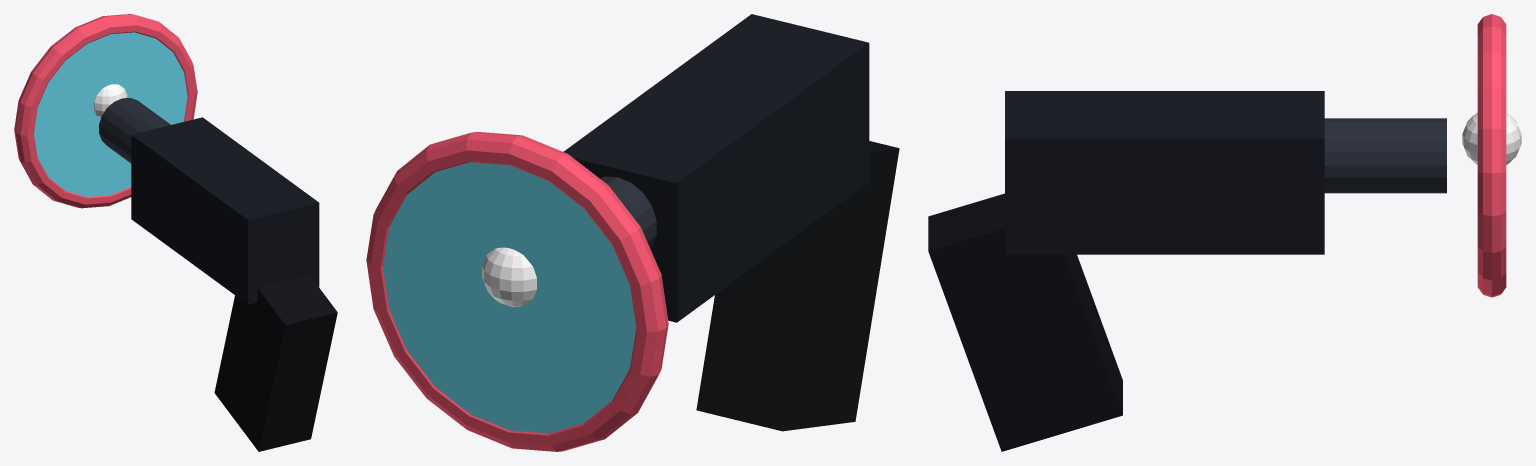
The model's file is ricochet.glb.
The picture shows the model from 3 angles, left to right: view 1: azimuth 30°, elevation 25°; view 2: azimuth 150°, elevation 25°; view 3: azimuth 270°, elevation 25°; orthographic projection. The views are drawn at different scales.
Parts seen in each view (by area): view 1: Cube, Cube.001, Cylinder.001, Torus, Cylinder, Sphere; view 2: Cube, Cylinder.001, Cube.001, Torus, Sphere, Cylinder; view 3: Cube, Cube.001, Cylinder, Torus, Sphere.
Part boxes in pixels (left/top/right/bottom): Cube: left=131, top=117, right=319, bottom=304; Cube.001: left=214, top=275, right=337, bottom=451; Cylinder.001: left=34, top=32, right=187, bottom=196; Torus: left=14, top=14, right=197, bottom=208; Cylinder: left=99, top=98, right=170, bottom=163; Sphere: left=94, top=84, right=127, bottom=118; Cube: left=563, top=14, right=869, bottom=322; Cylinder.001: left=383, top=162, right=636, bottom=433; Cube.001: left=696, top=141, right=899, bottom=431; Torus: left=366, top=132, right=668, bottom=451; Sphere: left=482, top=247, right=536, bottom=306; Cylinder: left=600, top=176, right=656, bottom=248; Cube: left=1005, top=91, right=1324, bottom=254; Cube.001: left=928, top=193, right=1122, bottom=451; Cylinder: left=1324, top=118, right=1446, bottom=193; Torus: left=1477, top=14, right=1506, bottom=297; Sphere: left=1462, top=112, right=1521, bottom=164.
Size of the model in its own units: 0.76 by 1.2 by 1.58.
